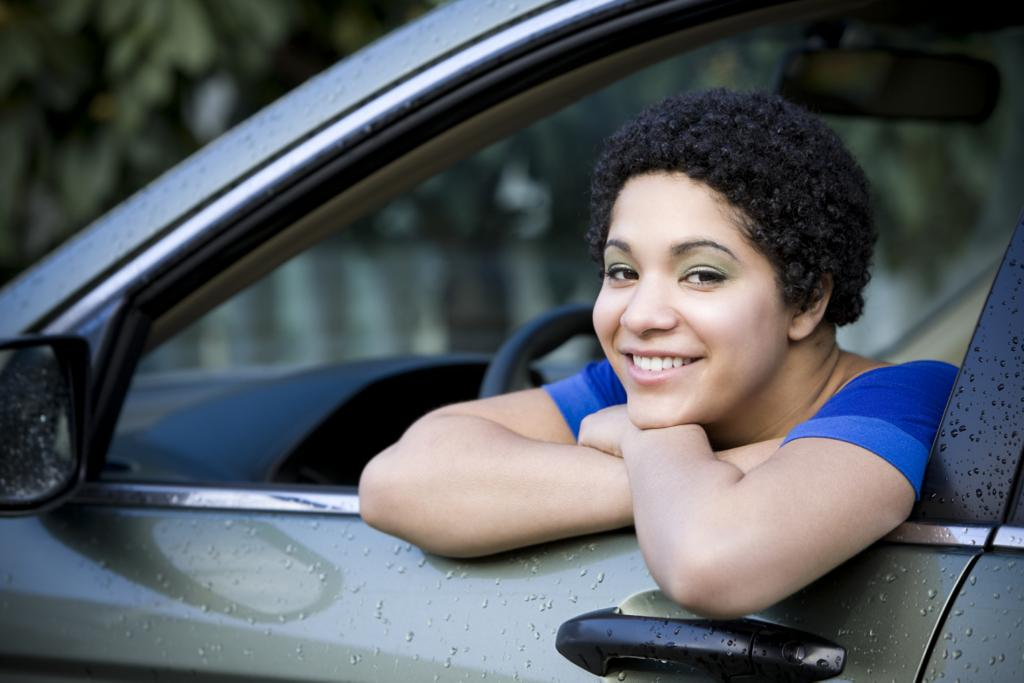face: (594, 176, 786, 426)
